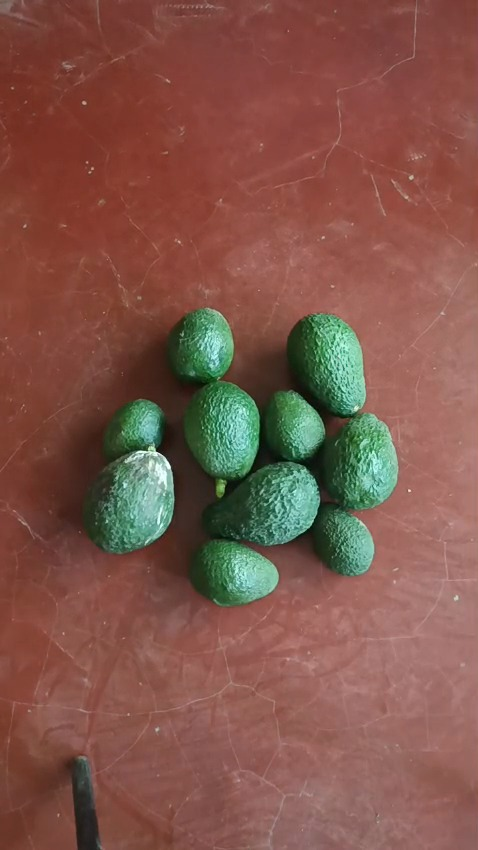Primera: (81, 448, 176, 552), (202, 463, 319, 546), (286, 312, 366, 415), (183, 380, 262, 480), (322, 412, 398, 509)
Segunda: (188, 539, 279, 605), (166, 306, 235, 383)
Tercera: (261, 388, 325, 462), (310, 502, 374, 575), (102, 398, 167, 461)
